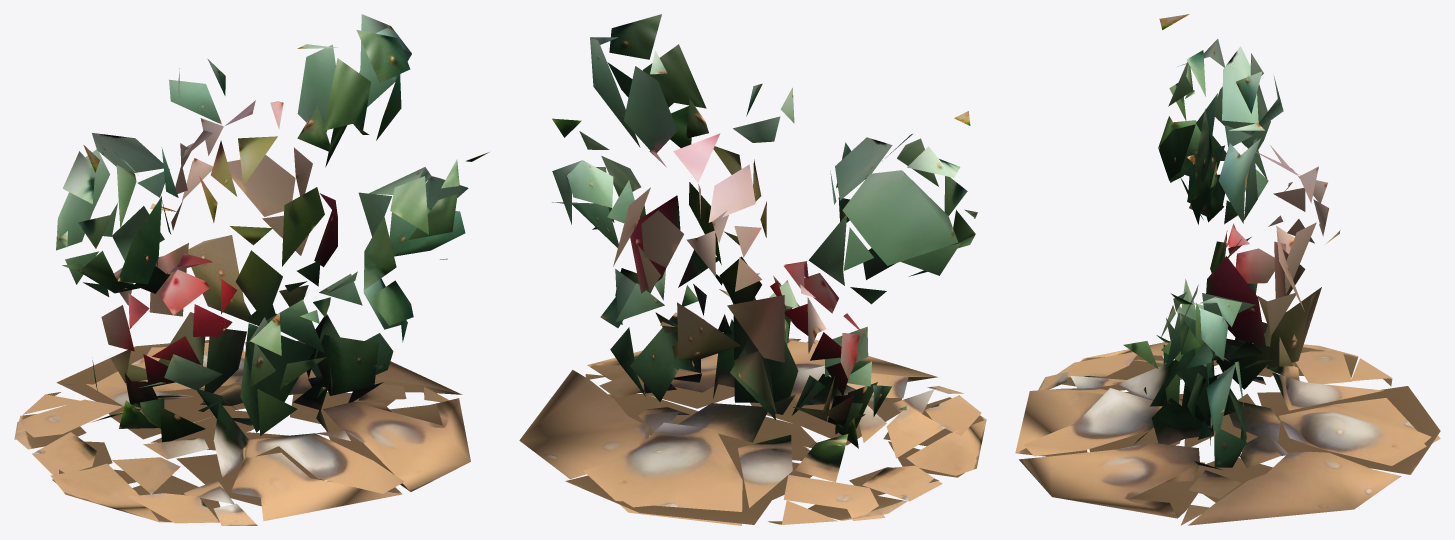
File: tripo-cacto446b-lod.glb
3 views of the same model, side by side, from view 1: azimuth 30°, elevation 25°; view 2: azimuth 150°, elevation 25°; view 3: azimuth 270°, elevation 25° (orthographic). The views are drawn at different scales.
Parts seen in each view (by area): view 1: tripo_node_03304b1f-61c0-489e-a06a-65433a6d12f6; view 2: tripo_node_03304b1f-61c0-489e-a06a-65433a6d12f6; view 3: tripo_node_03304b1f-61c0-489e-a06a-65433a6d12f6.
Part boxes in pixels (x1=…): tripo_node_03304b1f-61c0-489e-a06a-65433a6d12f6: x1=14, y1=14, x2=489, y2=525; tripo_node_03304b1f-61c0-489e-a06a-65433a6d12f6: x1=519, y1=14, x2=986, y2=525; tripo_node_03304b1f-61c0-489e-a06a-65433a6d12f6: x1=1015, y1=14, x2=1440, y2=525.
Bounding box in the file's own units: 0.9373 × 0.8134 × 0.8341.
1 material, 1 textured.
